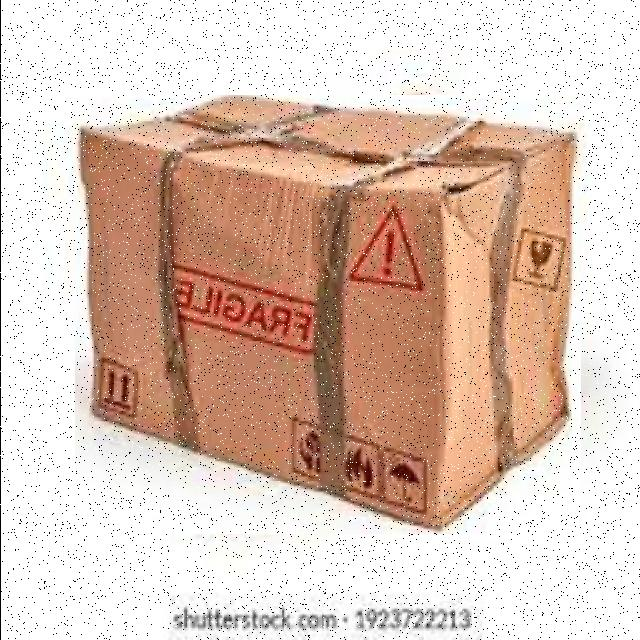normal: (74, 95, 580, 534)
